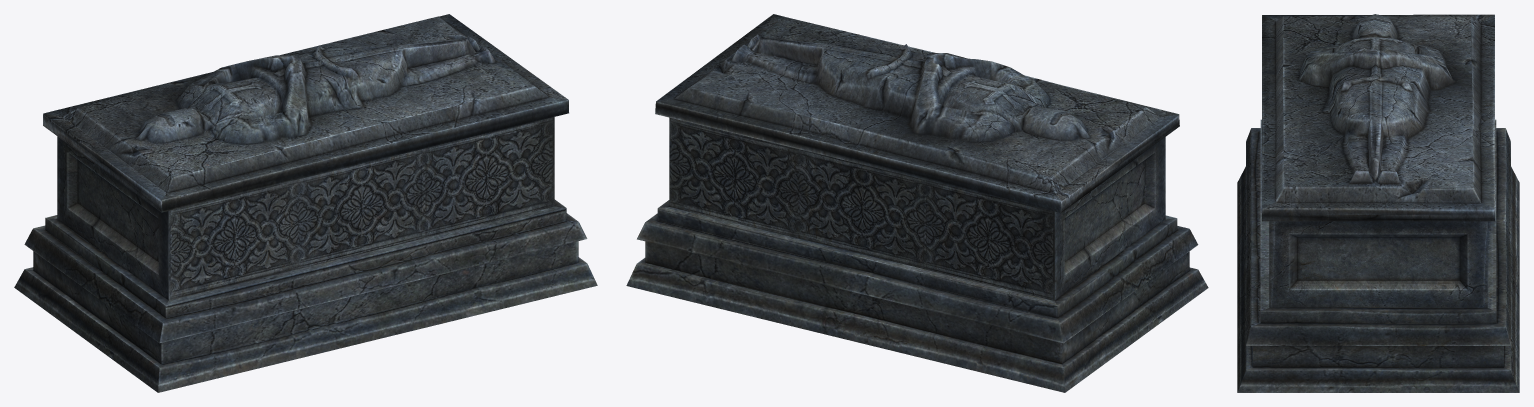
File: S_Casket.FBX
The picture shows the model from 3 angles, left to right: view 1: azimuth 30°, elevation 25°; view 2: azimuth 150°, elevation 25°; view 3: azimuth 270°, elevation 25°; orthographic projection. The views are drawn at different scales.
Visible parts, largest first — view 1: StoneCasket1, StoneCasket1_cover; view 2: StoneCasket1, StoneCasket1_cover; view 3: StoneCasket1, StoneCasket1_cover.
Boxes of the visible parts, <box> form: StoneCasket1: <box>14,117,597,392</box>; StoneCasket1_cover: <box>43,14,568,212</box>; StoneCasket1: <box>626,117,1208,392</box>; StoneCasket1_cover: <box>655,14,1179,212</box>; StoneCasket1: <box>1237,119,1519,392</box>; StoneCasket1_cover: <box>1262,14,1494,221</box>.
Bounding box in the file's own units: 44.49 × 22.74 × 25.22.
